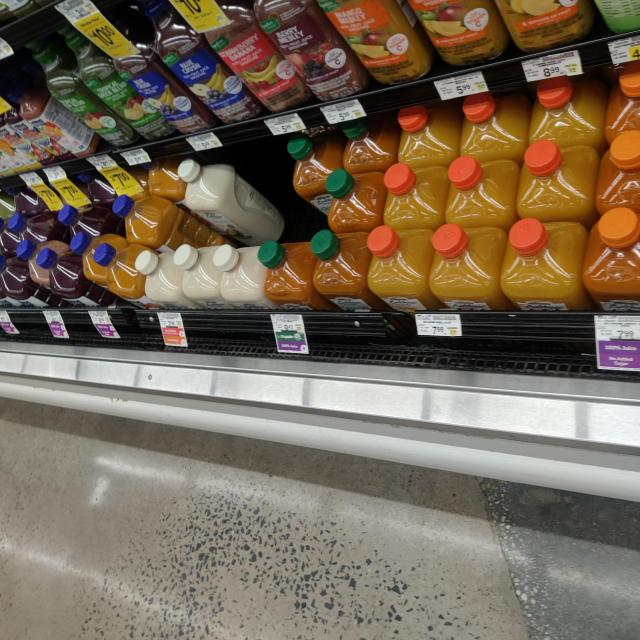Juice: (95, 6, 219, 142), (56, 20, 176, 143), (147, 0, 263, 124), (190, 0, 312, 113), (28, 36, 136, 146), (255, 0, 368, 101), (179, 158, 286, 246), (503, 219, 589, 311), (432, 228, 518, 312), (117, 197, 236, 254), (516, 144, 600, 222), (367, 226, 441, 311), (312, 232, 390, 312), (585, 208, 640, 310), (444, 155, 518, 226), (37, 250, 123, 310), (287, 138, 349, 218), (96, 245, 162, 311), (383, 163, 446, 229), (325, 166, 386, 232), (21, 242, 74, 290)
